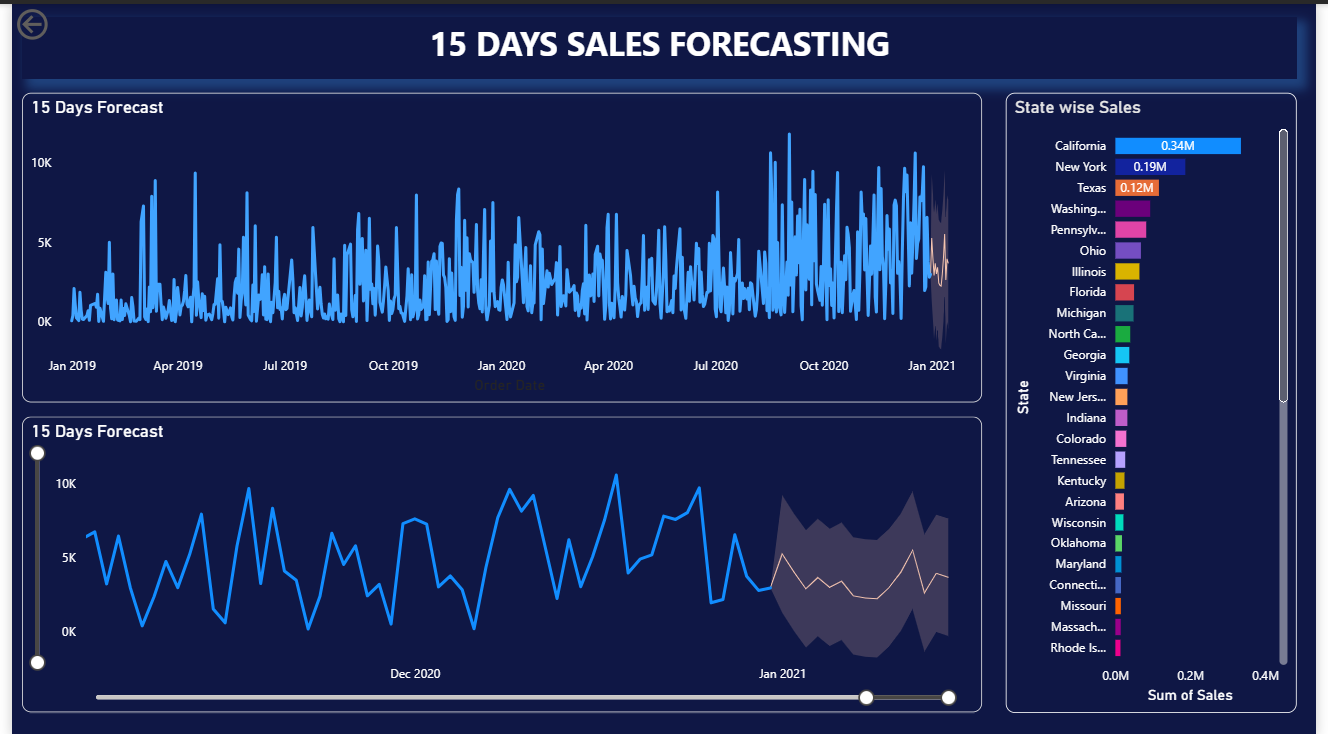

The page's visual inventory and layout, read from the dashboard file:
{"tool":"powerbi","page":{"name":"Forecast","canvas":[1280,720],"ordinal":1},"visuals":[{"type":"textbox","box":[10,12.5,1251.2,61.2],"z":0},{"type":"actionButton","box":[0,0,100,40],"z":1000},{"type":"lineChart","title":"15 Days Forecast","fields":{"Category":["Sales_Dataset_proj2.Order Date"],"Y":["Sum(Sales_Dataset_proj2.Sales)"]},"box":[9.8,87.1,942.3,304.3],"z":2000},{"type":"lineChart","title":"15 Days Forecast","fields":{"Category":["Sales_Dataset_proj2.Order Date"],"Y":["Sum(Sales_Dataset_proj2.Sales)"]},"box":[9.8,404.9,942.3,290.8],"z":3000},{"type":"barChart","title":"State wise Sales","fields":{"Category":["Sales_Dataset_proj2.State"],"Y":["Sum(Sales_Dataset_proj2.Sales)"],"Series":["Sales_Dataset_proj2.State"]},"box":[975.5,87.1,285.9,608.6],"z":4000}]}

Visuals, with their boxes in screenshot pixels (x1, y1, x2, y2), scaled from the page's 1280x720 canvas onto the 1328x734 screenshot:
textbox: [10, 13, 1308, 75]
actionButton: [0, 0, 104, 41]
"15 Days Forecast" lineChart: [10, 89, 988, 399]
"15 Days Forecast" lineChart: [10, 413, 988, 709]
"State wise Sales" barChart: [1012, 89, 1309, 709]
